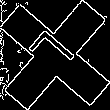L_SE: (26, 27, 84, 83)
